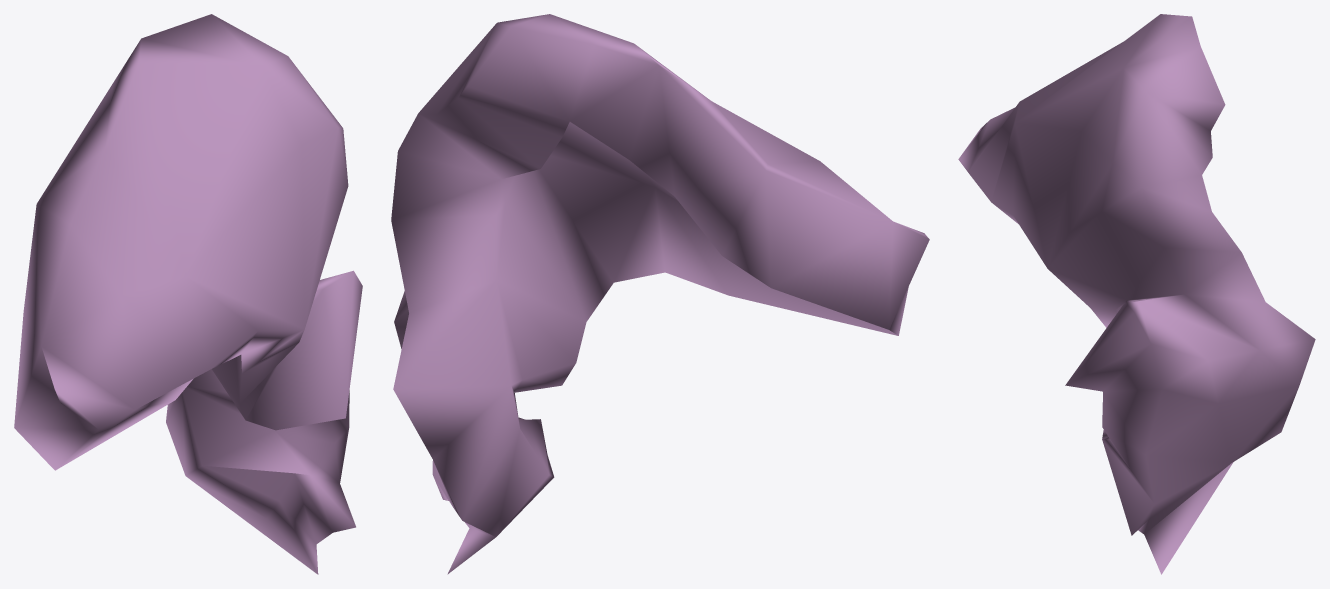
The picture shows the model from 3 angles, left to right: view 1: azimuth 30°, elevation 25°; view 2: azimuth 150°, elevation 25°; view 3: azimuth 270°, elevation 25°; orthographic projection. The views are drawn at different scales.
Parts seen in each view (by area): view 1: 左侧额下回眶部; view 2: 左侧额下回眶部; view 3: 左侧额下回眶部.
Boxes of the visible parts, x1,y1,x2,y2 form: 左侧额下回眶部: (14,14,362,574); 左侧额下回眶部: (391,14,929,574); 左侧额下回眶部: (958,14,1315,574).
Size of the model in its own units: 0.0255 by 0.034 by 0.0224.
